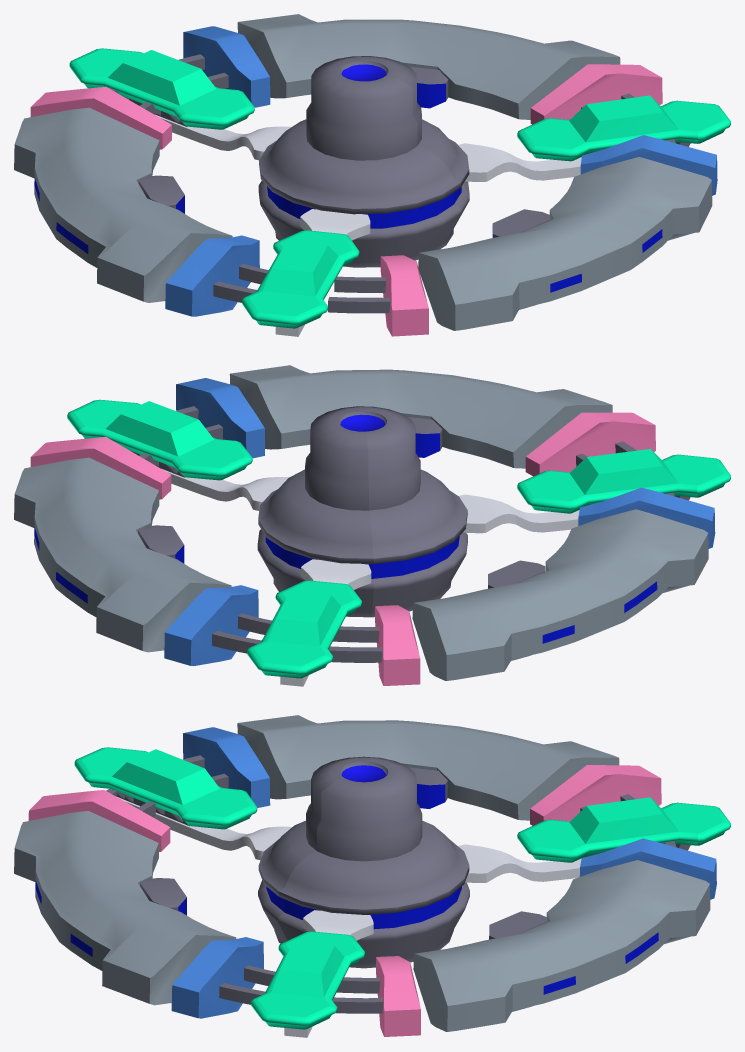
Rendered from SpaceStantion2.fbx.
3 renders of one model, top to bottom at view 1: azimuth 30°, elevation 25°; view 2: azimuth 150°, elevation 25°; view 3: azimuth 270°, elevation 25°, orthographic.
Visible parts, largest first — view 1: model; view 2: model; view 3: model.
Part boxes in pixels (<box>): model: <box>14,14,730,336</box>; model: <box>14,365,730,686</box>; model: <box>14,715,730,1037</box>.
Size of the model in its own units: 478 by 116 by 475.
